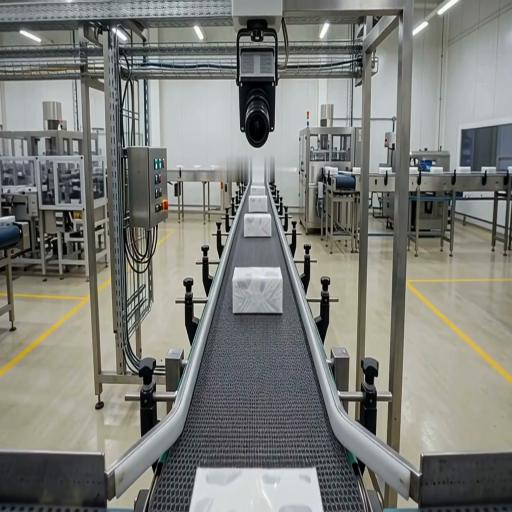good: (233, 267, 282, 313), (244, 214, 271, 237), (249, 196, 267, 212), (251, 185, 265, 195)
